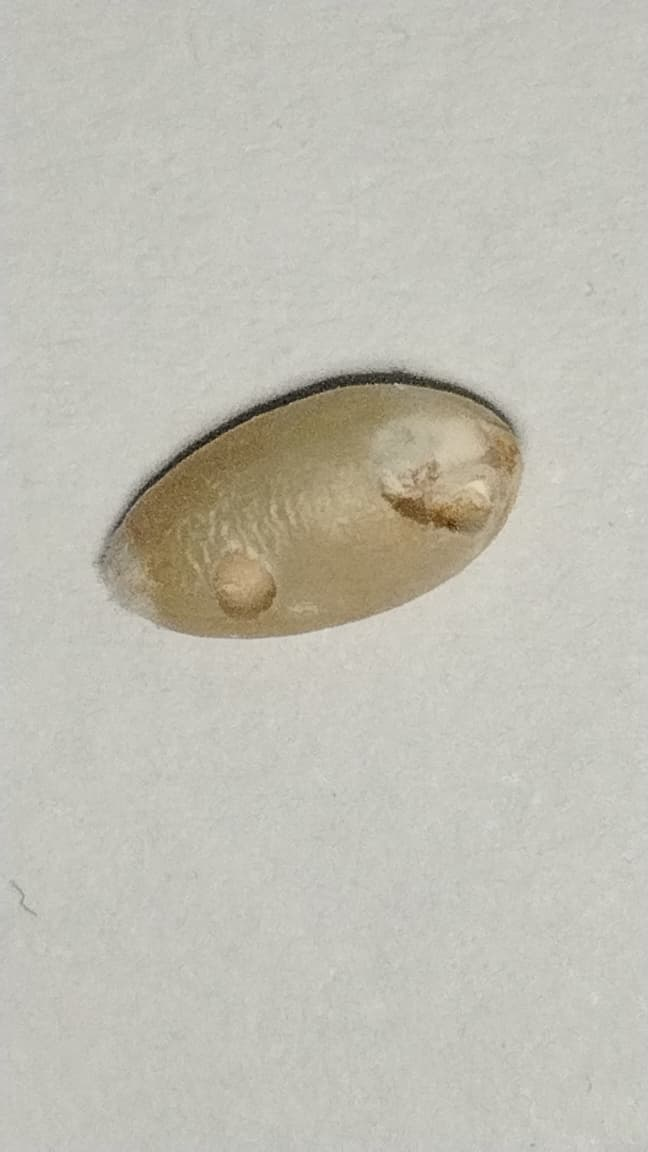damage: (104, 380, 520, 636)
insectdamage: (366, 398, 521, 535), (182, 527, 278, 619)
